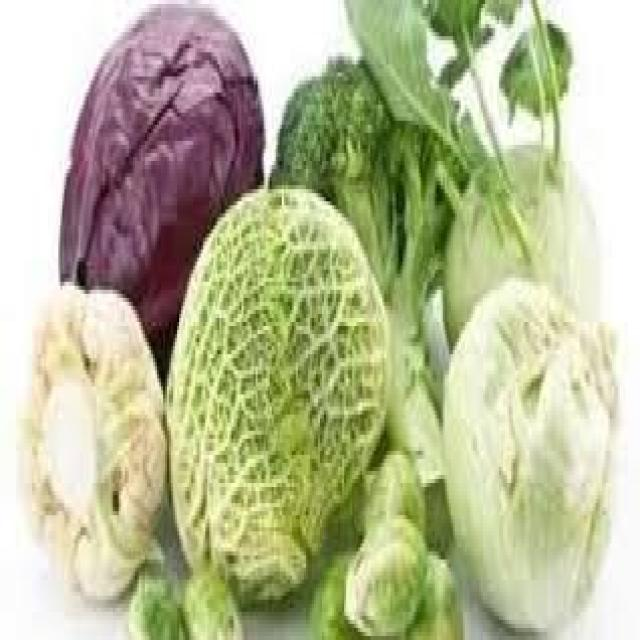broccoli: (272, 27, 454, 312)
cabbage: (46, 0, 279, 393), (436, 282, 640, 640), (444, 148, 614, 324)
cayliflower: (5, 283, 173, 604)
choux de bruxelles: (311, 419, 458, 640), (125, 555, 262, 640)
